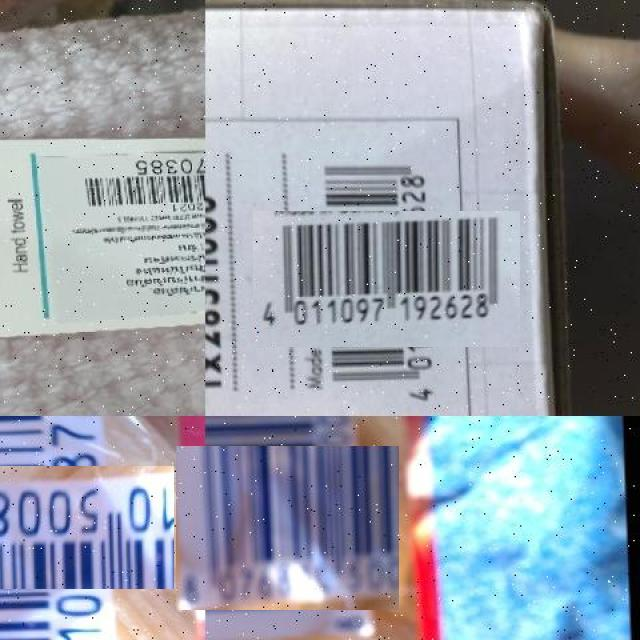Barcode: (286, 178, 488, 380), (190, 431, 384, 625), (0, 441, 149, 615), (76, 159, 205, 212)
